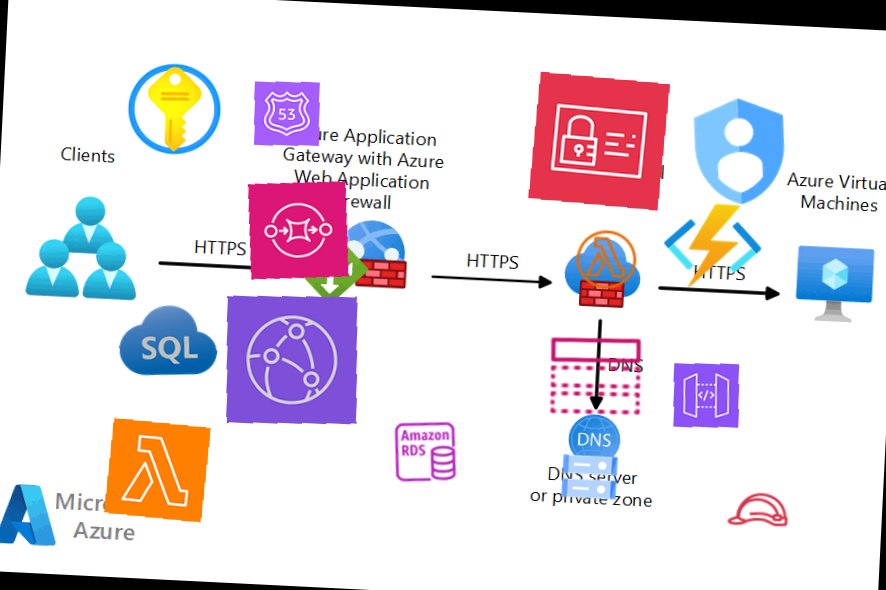aws_amazon_api_gateway: (670, 360, 742, 430)
aws_amazon_cloudfront: (220, 290, 363, 429)
aws_amazon_route_53: (250, 78, 322, 149)
aws_amazon_simple_queue_service: (243, 176, 353, 284)
aws_aurora_amazon_rds_instance: (388, 415, 462, 488)
aws_identity_access_management_role: (723, 475, 793, 544)
aws_identity_and_access_management: (528, 71, 670, 210)
aws_lambda: (103, 417, 211, 523)
aws_lambda_lambda_function: (571, 225, 641, 293)
aws_simple_notification_service_topic: (542, 324, 648, 428)
azure_function_apps: (660, 195, 764, 296)
azure_key_vaults: (121, 57, 227, 161)
azure_sql: (112, 287, 223, 395)
gcp_cloud_storage: (554, 442, 624, 511)
gcp_identity_and_access_management: (665, 78, 814, 223)
